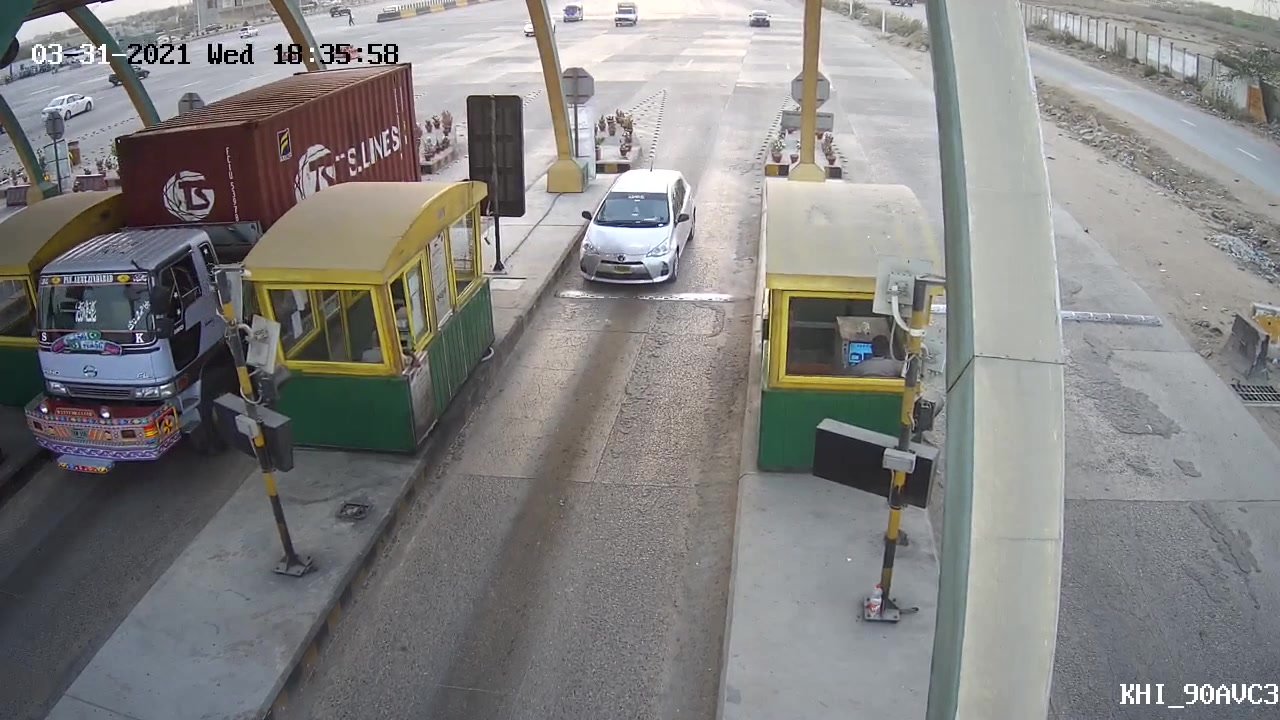F1: (575, 161, 702, 282)
